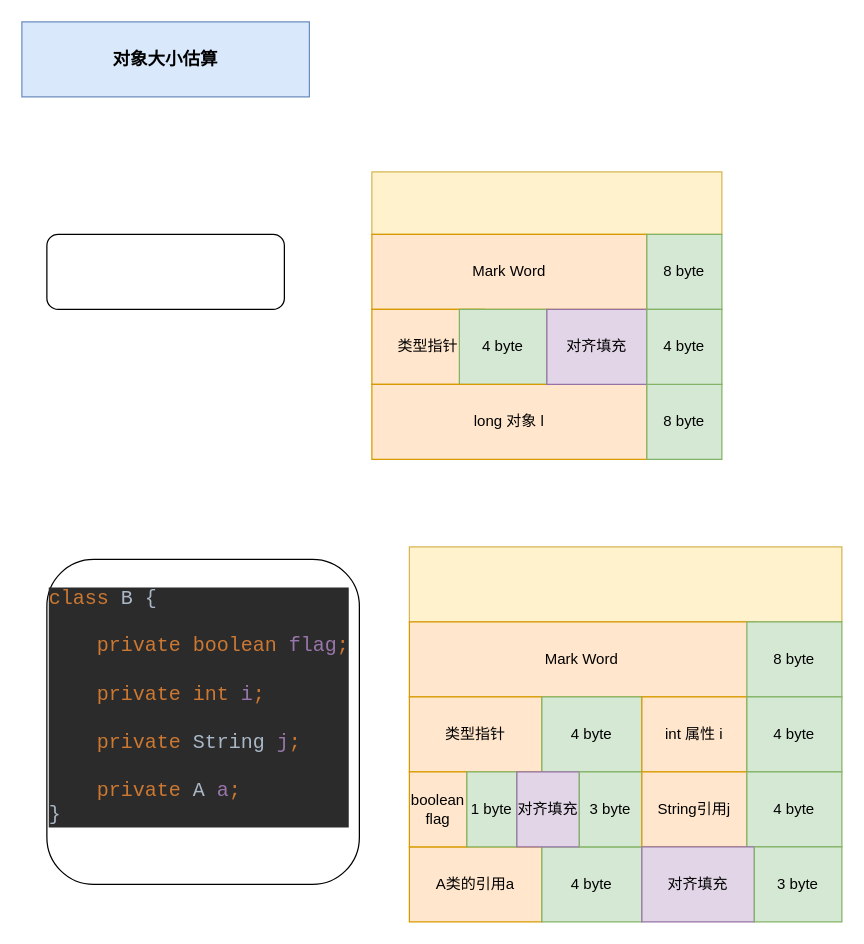
Some shapes in this 864 by 944 pixel diagram are drawn without their labels. The box of each missing label's shape, as (x1, y1, x2, y2) in pixels:
class A { private long l ; }: (46, 233, 284, 309)
Class A 的实例 共 24字节: (371, 171, 722, 234)
Class B 的实例 共 32字节: (408, 546, 842, 622)
